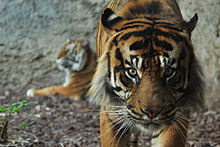Tigrew: (90, 4, 203, 140), (31, 32, 93, 103)
